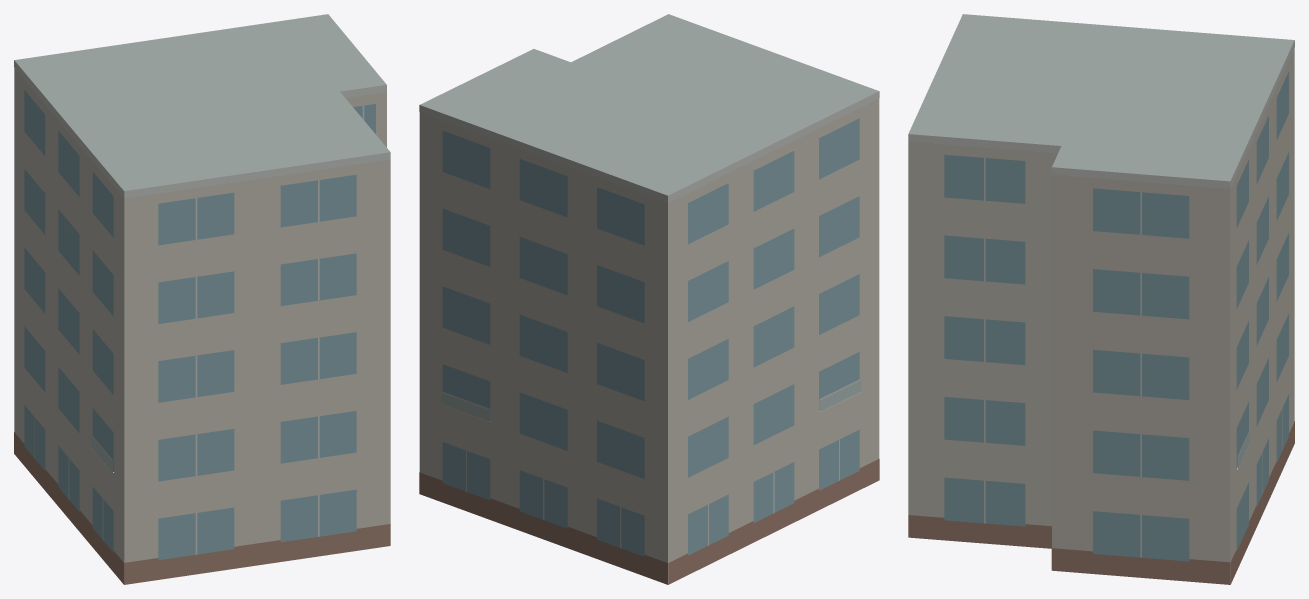
The model's file is survey-upis-32536301.glb.
3 views of the same model, side by side, from view 1: azimuth 30°, elevation 25°; view 2: azimuth 150°, elevation 25°; view 3: azimuth 270°, elevation 25° (orthographic). The views are drawn at different scales.
Visible parts, largest first — view 1: survey-upis-32536301.tmp; view 2: survey-upis-32536301.tmp; view 3: survey-upis-32536301.tmp.
Boxes of the visible parts, left/top/right/bottom form: survey-upis-32536301.tmp: left=14, top=14, right=390, bottom=584; survey-upis-32536301.tmp: left=419, top=14, right=879, bottom=584; survey-upis-32536301.tmp: left=908, top=14, right=1294, bottom=584.
Size of the model in its own units: 11.75 by 13.2 by 11.47.
